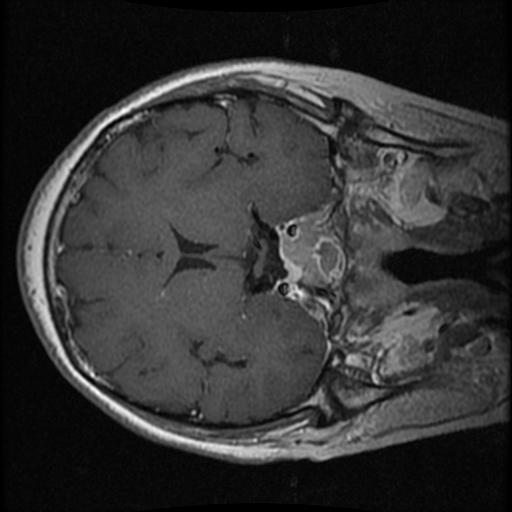pituitary tumour: (280, 221, 340, 287)
